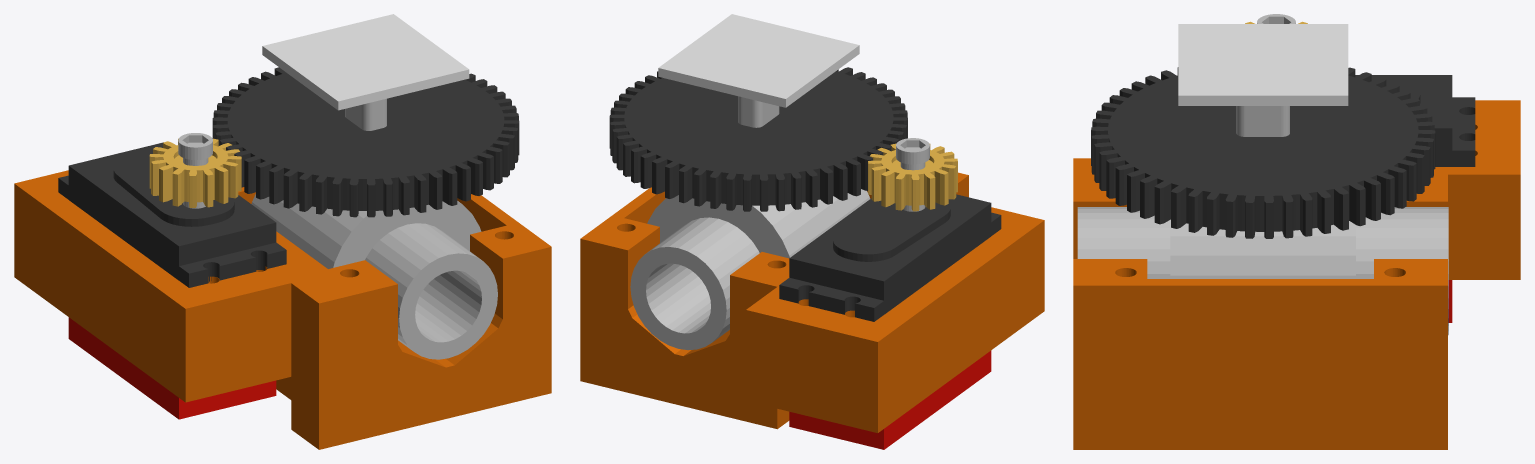
File: servo-valve-controller.glb
The picture shows the model from 3 angles, left to right: view 1: azimuth 30°, elevation 25°; view 2: azimuth 150°, elevation 25°; view 3: azimuth 270°, elevation 25°; orthographic projection. The views are drawn at different scales.
Parts seen in each view (by area): view 1: ValveServoMount, ValveGear, Servo, Valve, MagneticEncoder, ServoGear, ServoShaft, ValveShaft; view 2: ValveServoMount, ValveGear, Servo, Valve, MagneticEncoder, ServoGear, ServoShaft, ValveShaft; view 3: ValveServoMount, ValveGear, Valve, MagneticEncoder, Servo, ValveShaft.
Boxes of the visible parts, x1=… form: ValveServoMount: x1=14, y1=170, x2=551, y2=449; ValveGear: x1=212, y1=67, x2=519, y2=217; Servo: x1=58, y1=142, x2=286, y2=419; Valve: x1=251, y1=194, x2=497, y2=359; MagneticEncoder: x1=262, y1=14, x2=469, y2=110; ServoGear: x1=149, y1=138, x2=241, y2=207; ServoShaft: x1=178, y1=133, x2=212, y2=208; ValveShaft: x1=345, y1=98, x2=386, y2=130; ValveServoMount: x1=580, y1=172, x2=1044, y2=432; ValveGear: x1=609, y1=67, x2=907, y2=211; Servo: x1=779, y1=194, x2=1001, y2=449; Valve: x1=630, y1=189, x2=870, y2=350; MagneticEncoder: x1=658, y1=14, x2=859, y2=107; ServoGear: x1=868, y1=143, x2=957, y2=211; ServoShaft: x1=896, y1=138, x2=929, y2=211; ValveShaft: x1=738, y1=96, x2=779, y2=127; ValveServoMount: x1=1073, y1=100, x2=1520, y2=449; ValveGear: x1=1091, y1=67, x2=1435, y2=238; Valve: x1=1077, y1=207, x2=1448, y2=335; MagneticEncoder: x1=1178, y1=24, x2=1348, y2=105; Servo: x1=1355, y1=75, x2=1475, y2=322; ValveShaft: x1=1236, y1=106, x2=1289, y2=136.
Size of the model in its own units: 3.15 by 2.43 by 2.94.
